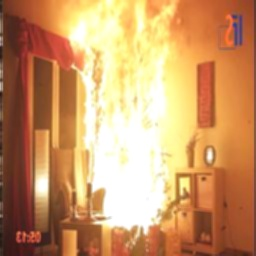fire: (61, 1, 195, 238)
